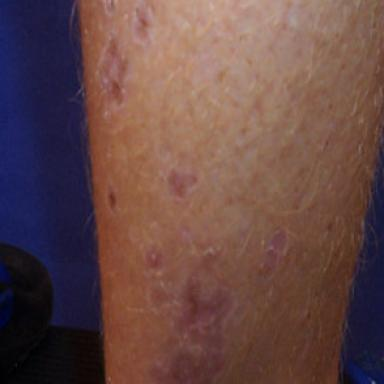Porokeratosis: (151, 249, 236, 382), (98, 36, 128, 105), (259, 229, 291, 278), (167, 169, 197, 197), (133, 2, 153, 41), (144, 243, 163, 272), (107, 187, 117, 209), (105, 0, 115, 14)
